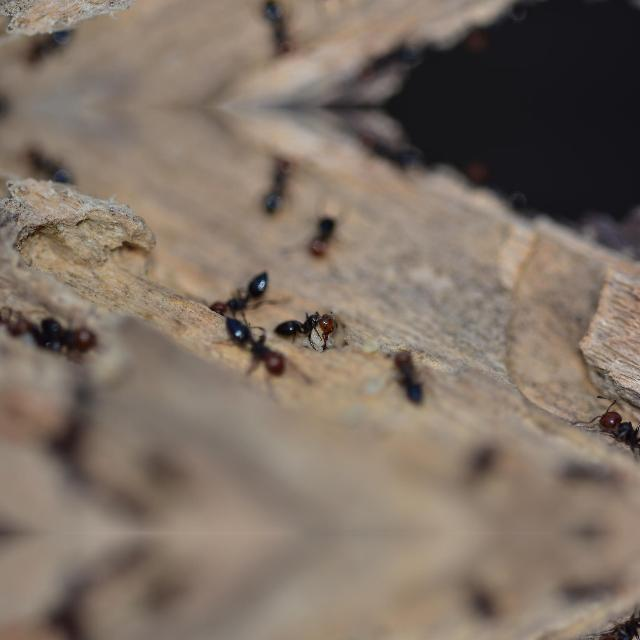Crematogaster: (221, 318, 297, 380), (198, 268, 280, 316), (586, 398, 640, 454), (394, 342, 436, 412), (28, 310, 90, 342), (282, 311, 336, 341), (306, 210, 338, 260), (586, 611, 639, 640)
